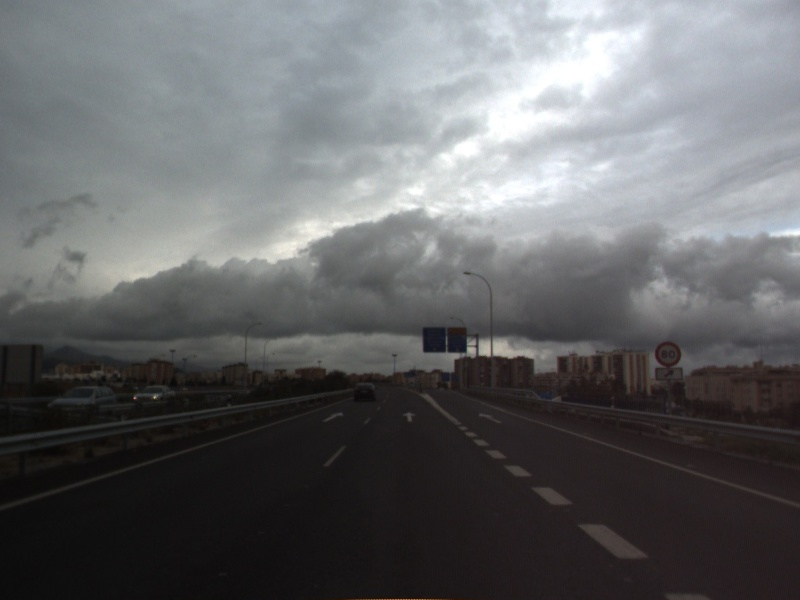STRAIGHT: (476, 410, 504, 425), (320, 410, 345, 424), (401, 409, 418, 424)
